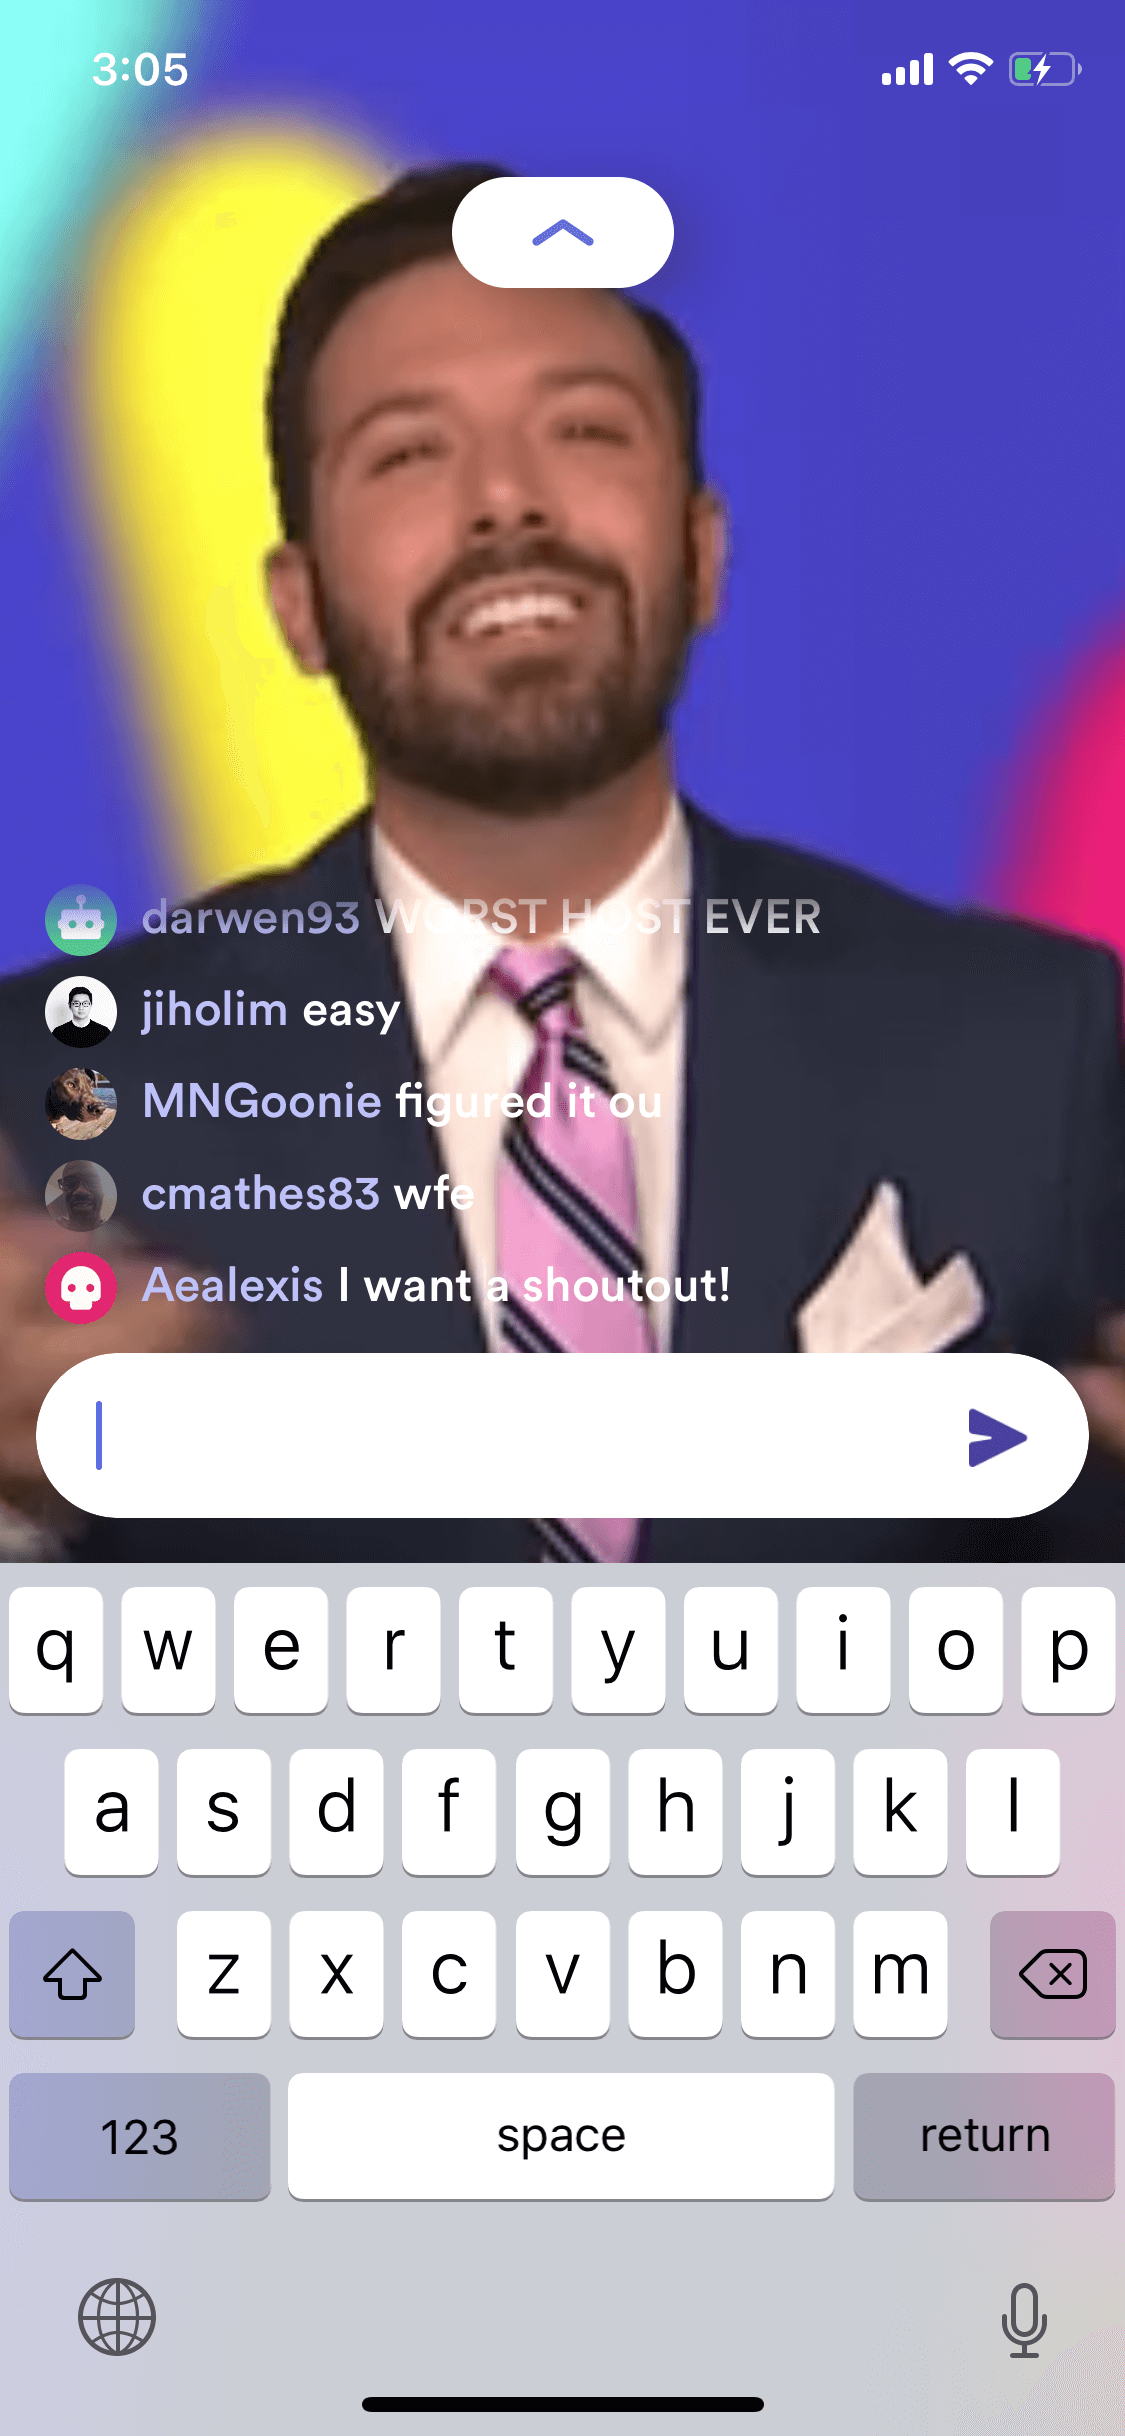FAB (Floating Action Button): (427, 165, 702, 298)
Text Fields: (26, 1342, 1102, 1526)
